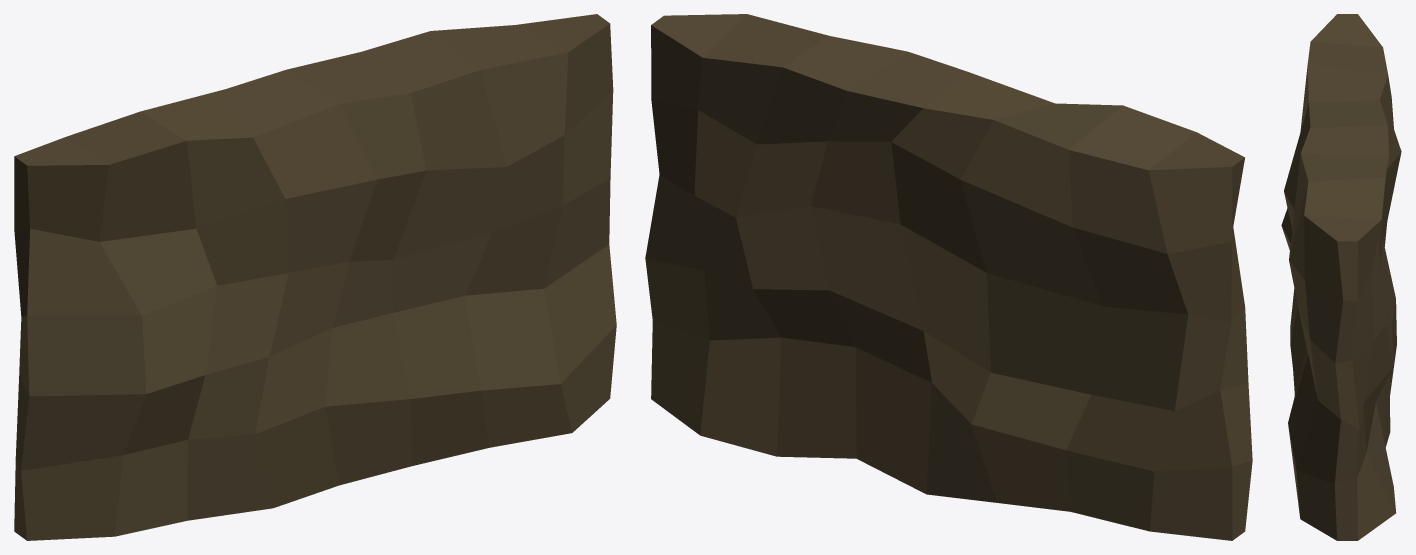
File: MidWall.2.fbx
3 views of the same model, side by side, from view 1: azimuth 30°, elevation 25°; view 2: azimuth 150°, elevation 25°; view 3: azimuth 270°, elevation 25° (orthographic). The views are drawn at different scales.
Visible parts, largest first — view 1: Mid_Wall.2; view 2: Mid_Wall.2; view 3: Mid_Wall.2.
Boxes of the visible parts, box(x1,y1,x2,y2) form: Mid_Wall.2: box(14, 14, 616, 540); Mid_Wall.2: box(645, 14, 1252, 540); Mid_Wall.2: box(1281, 14, 1401, 540).
Bounding box in the file's own units: 1330 × 831 × 290.
